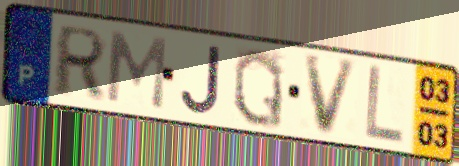J: (178, 43, 223, 117)
L: (362, 62, 406, 148)
M: (103, 28, 170, 113)
Q: (232, 45, 286, 131)
R: (50, 23, 110, 101)
V: (301, 53, 361, 138)
